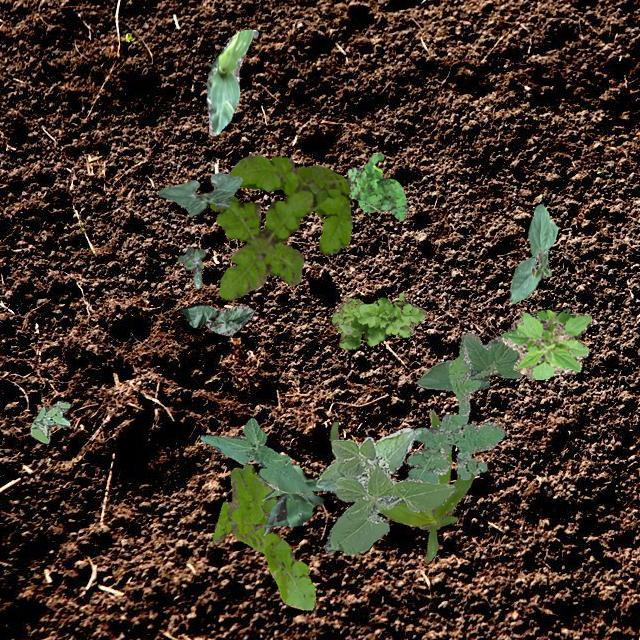crop: (330, 408, 474, 560), (316, 428, 454, 554), (200, 418, 312, 496), (416, 332, 522, 389), (205, 29, 258, 134), (508, 202, 556, 302), (262, 464, 322, 534), (157, 172, 240, 216), (180, 302, 252, 334)
weed: (208, 154, 352, 298), (212, 462, 316, 608), (404, 347, 504, 482), (499, 308, 592, 380), (330, 292, 426, 348), (347, 153, 408, 220), (28, 400, 68, 442), (176, 245, 204, 288)
